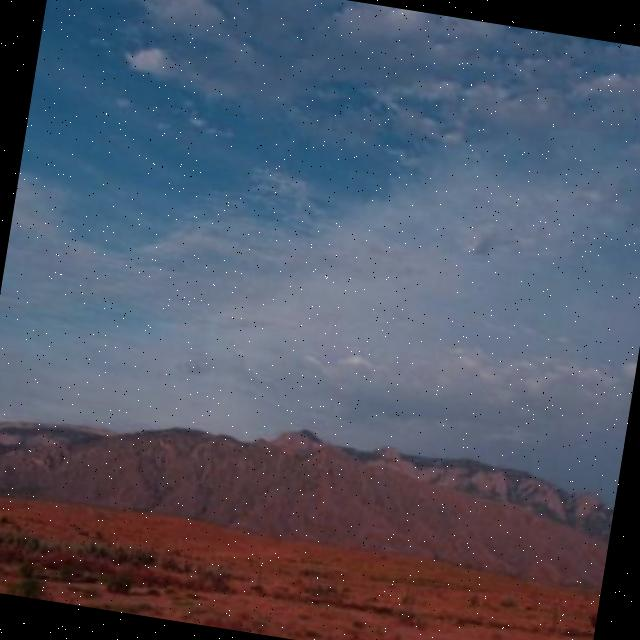Ac: (1, 1, 640, 425)
